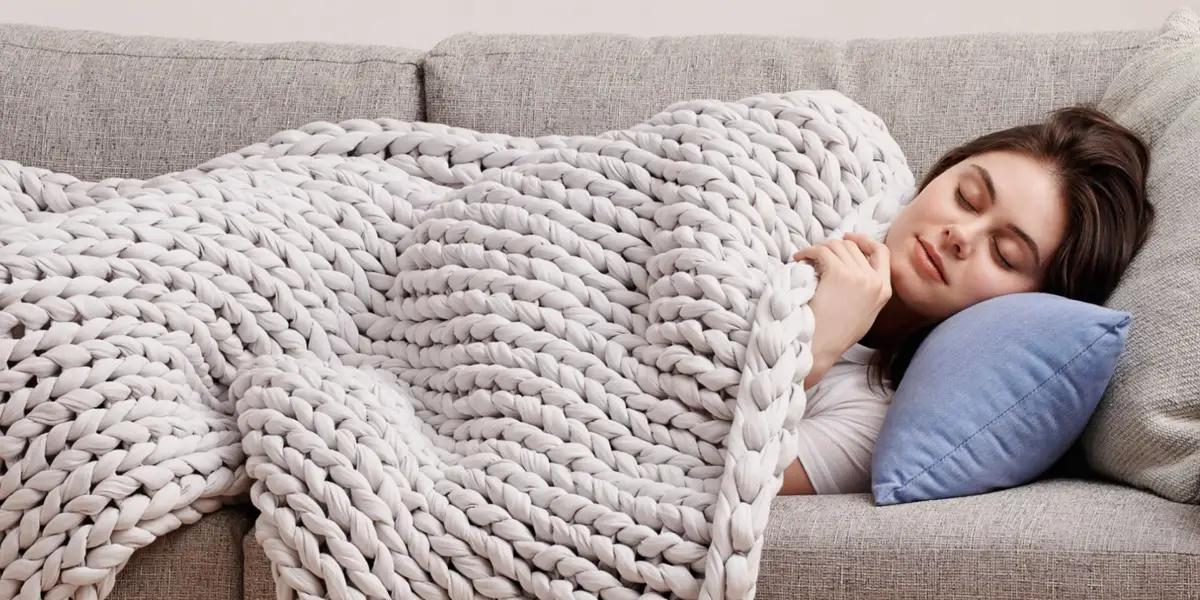blanket: (0, 83, 917, 600)
